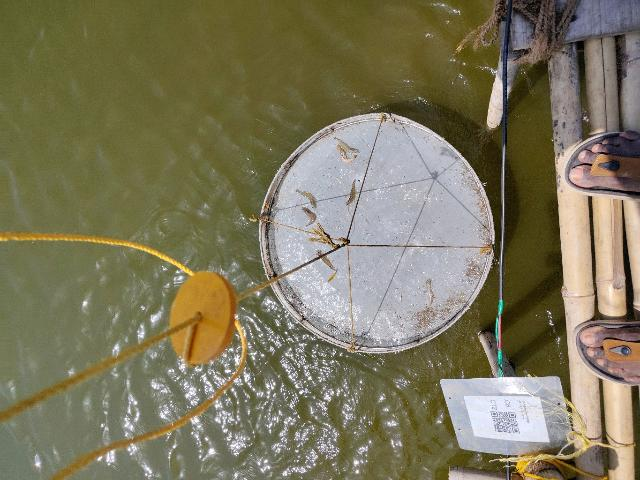shrimp: (315, 249, 339, 272), (331, 137, 360, 155), (295, 188, 317, 209), (337, 144, 357, 163), (426, 278, 435, 310), (301, 207, 316, 226), (346, 180, 356, 205)
